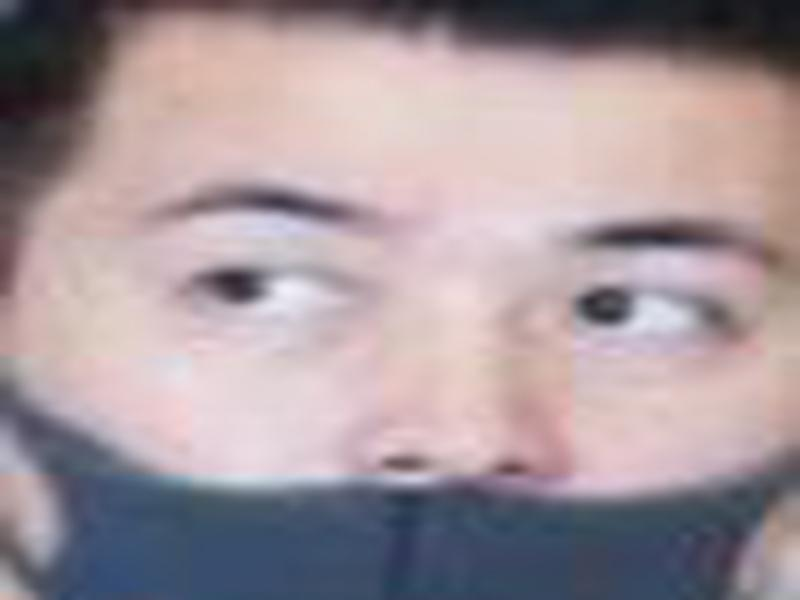with_mask: (1, 24, 799, 600)
